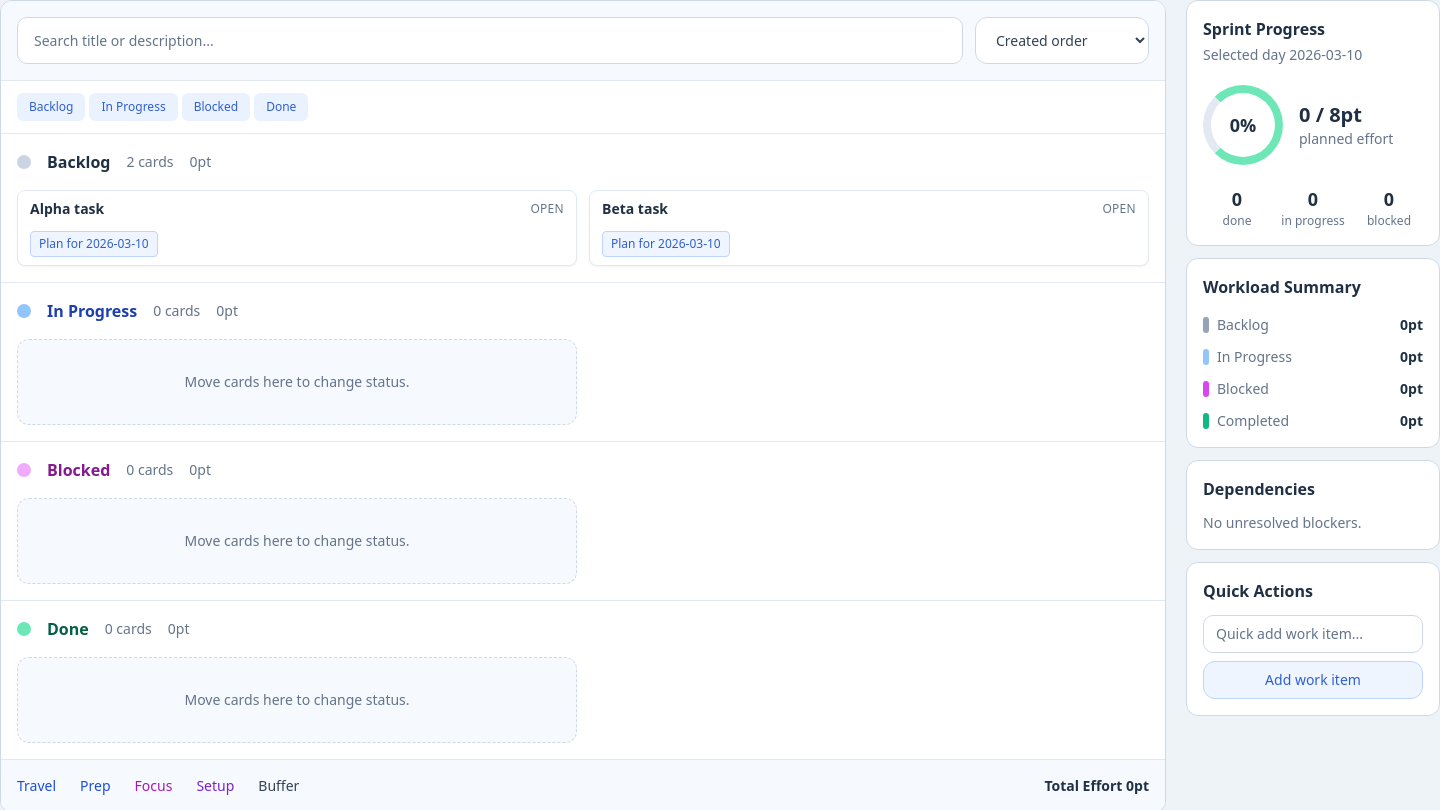
Test: KanbanBoard › filters cards by search query
Expected: the heading "Alpha task" is shown, x1=30 y1=199 x2=104 y2=219
Expected: the heading "Beta task" is shown, x1=602 y1=199 x2=668 y2=219
Type "beta" into the field named "search cards" at (490, 40), box x1=17 y1=17 x2=963 y2=64
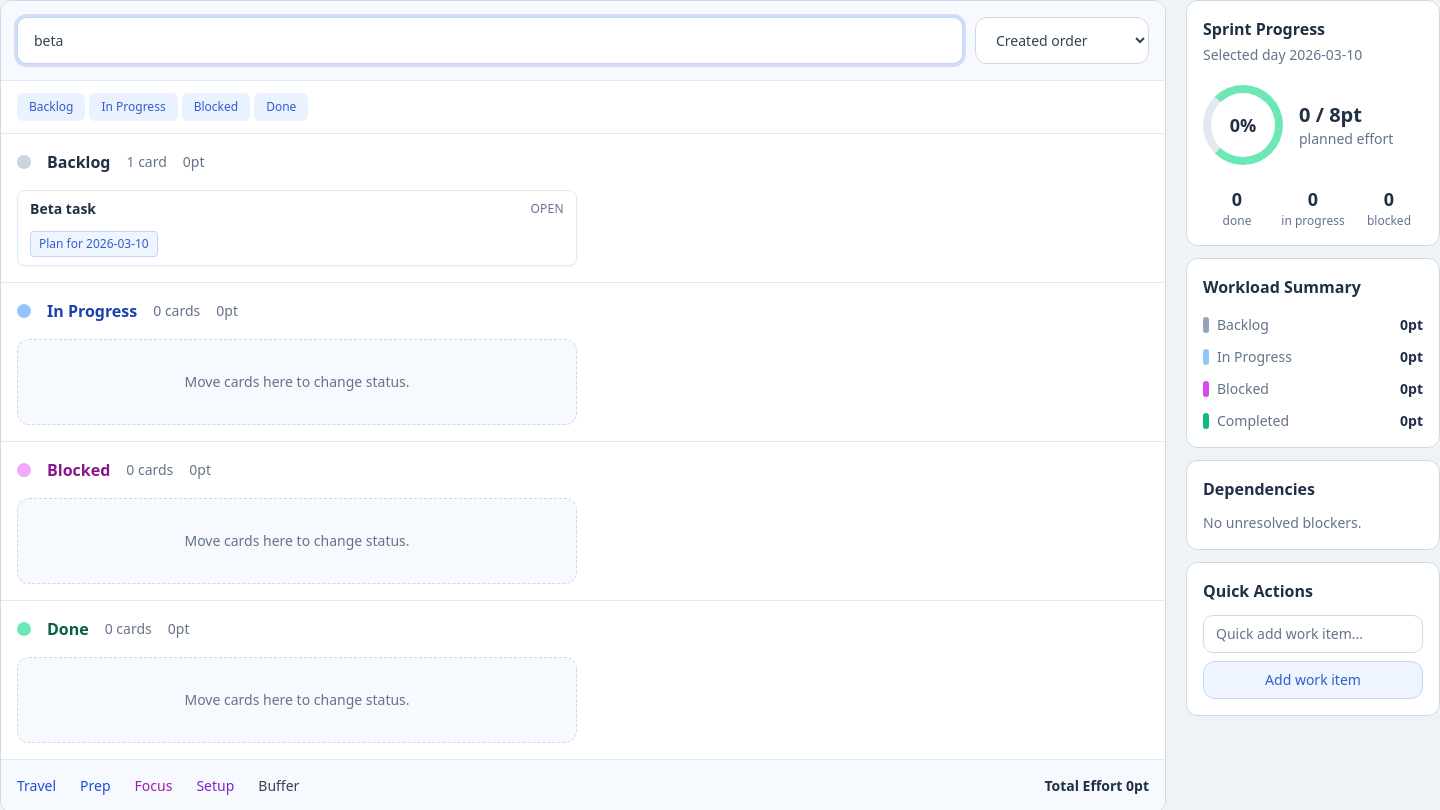
Expected: the heading "Beta task" is shown, x1=30 y1=199 x2=96 y2=219
Now the button "Alpha task" is gone
